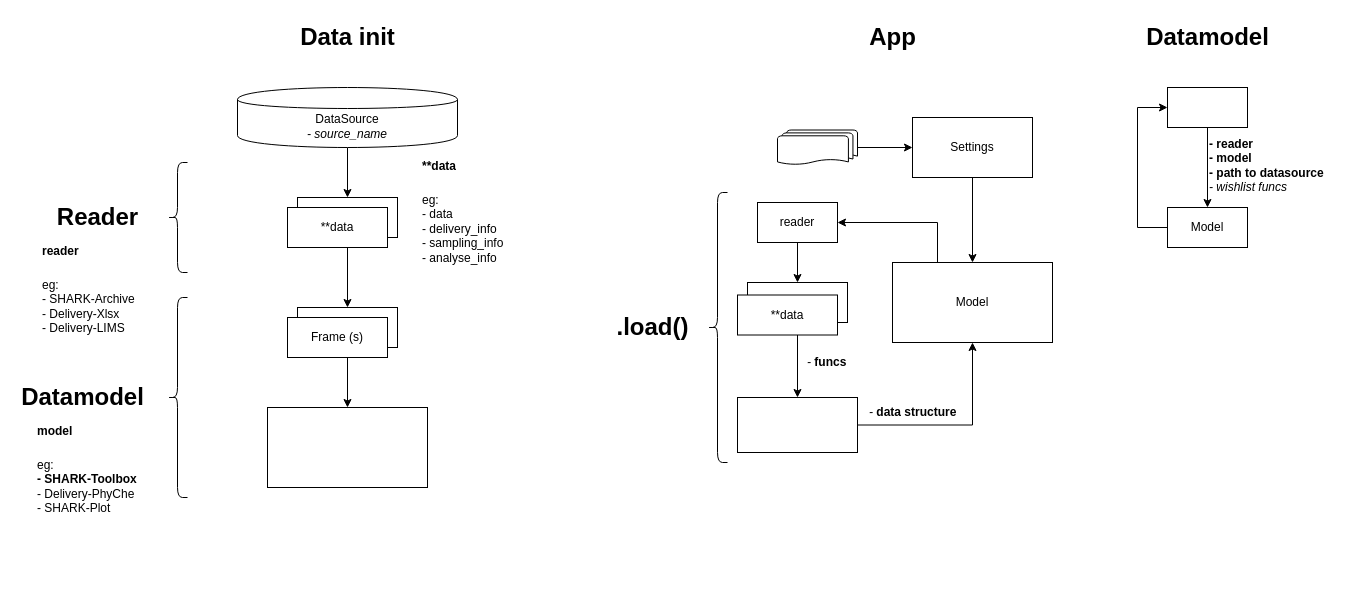
Some shapes in this 1364 by 589 pixel diagram are drawn without their labels. The shapes that lost their labels are listed below. From the top down, each one's centre as x and y in pixels, then its label:
[1207,107]: user
[817,147]: etc
[797,424]: Wrangler
[347,447]: DataFrames (dict)
